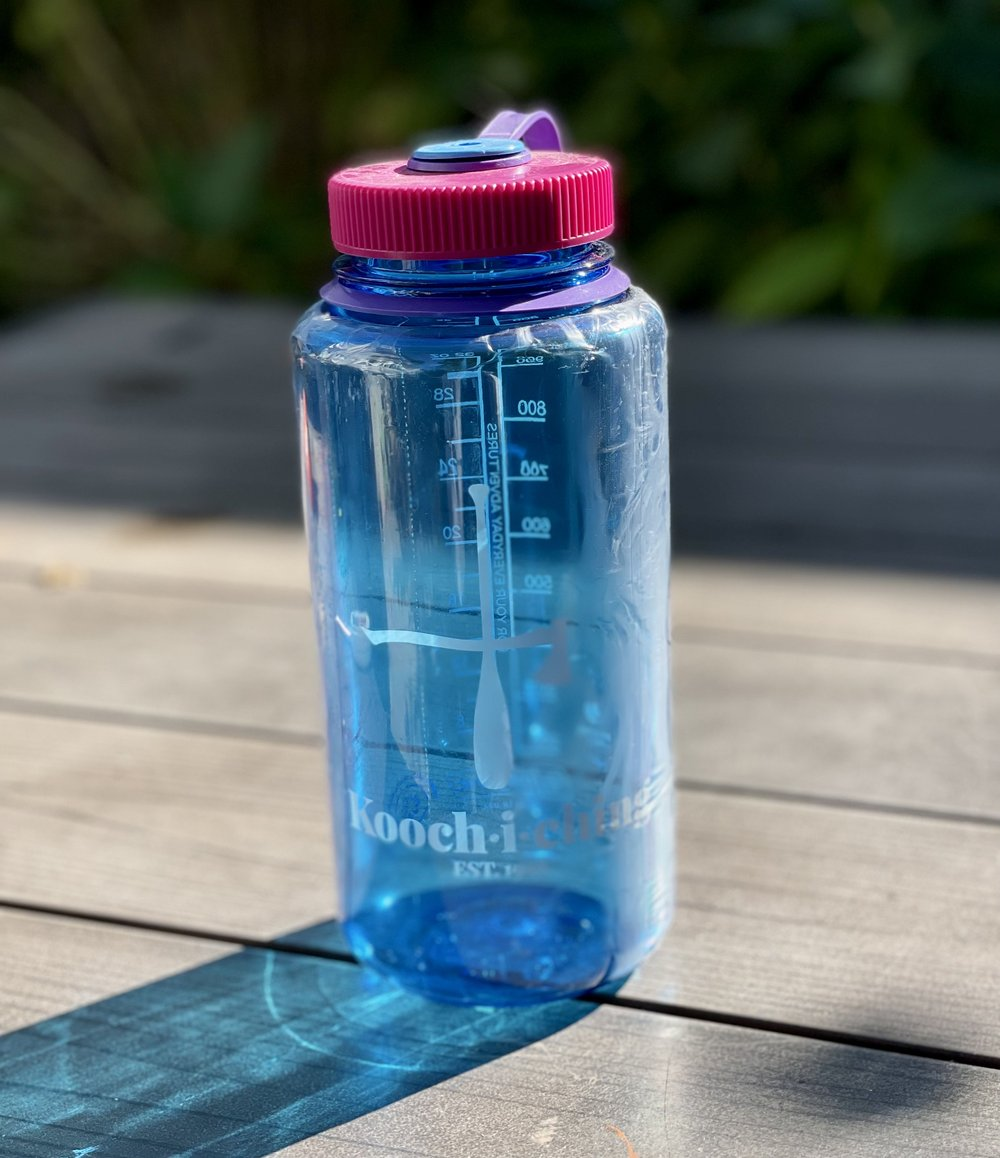waterbottle: (286, 104, 680, 1013)
